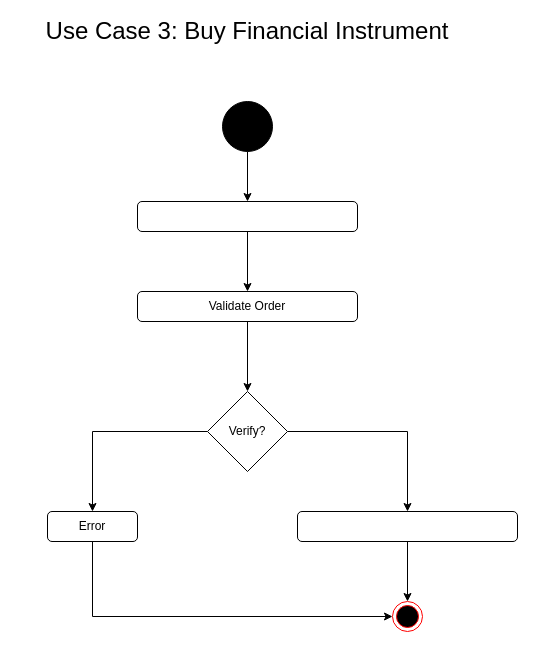
Image size: 535x649. Some labels were removed from this diagram. The centre of each missing label's shape, as x and y in pixels:
"Buy Financial Instrument" goes at pixel 407 526.
"Place Buy Order" goes at pixel 247 216.
